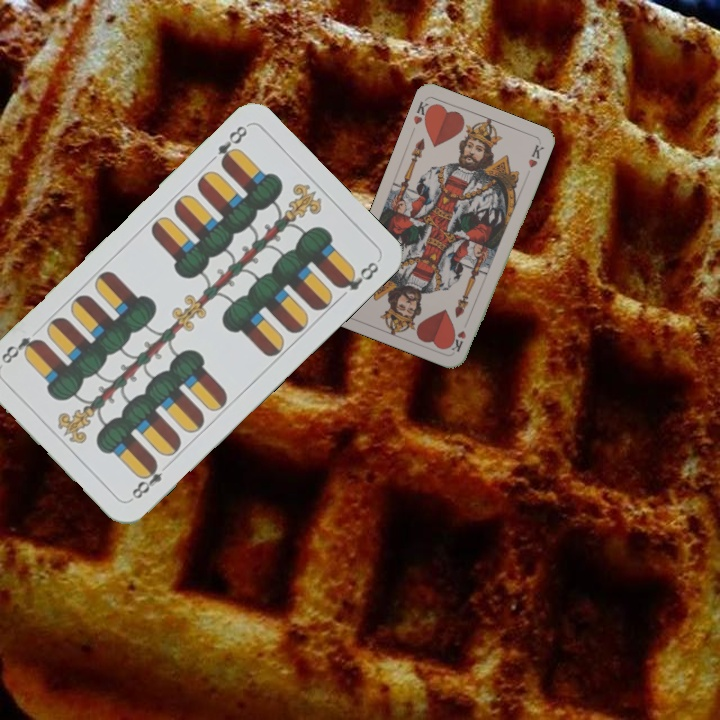E8: (126, 457, 166, 503), (213, 121, 250, 170)
HK: (409, 96, 435, 127), (448, 326, 469, 354)
